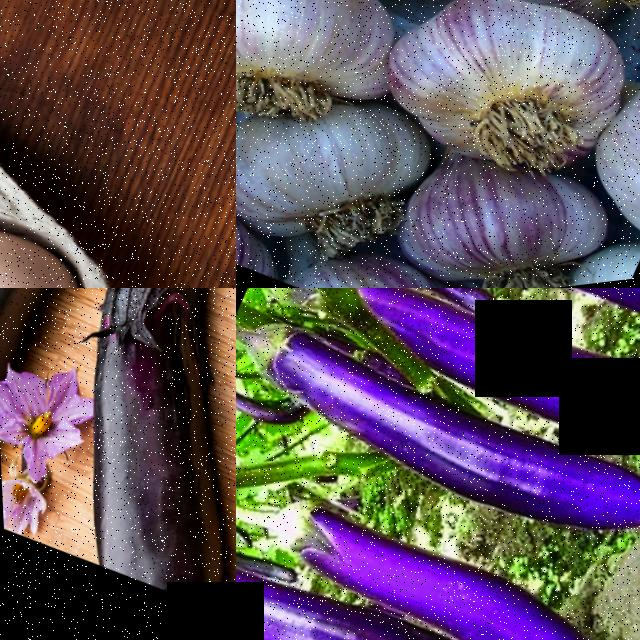eggplant: (266, 308, 640, 607), (256, 463, 585, 640), (345, 288, 640, 474), (396, 288, 640, 509), (36, 368, 236, 630), (0, 288, 214, 514), (236, 486, 534, 640), (356, 288, 504, 336), (236, 373, 305, 445)
garlic: (359, 0, 640, 213), (236, 49, 443, 288), (376, 125, 613, 288), (236, 0, 418, 149)
